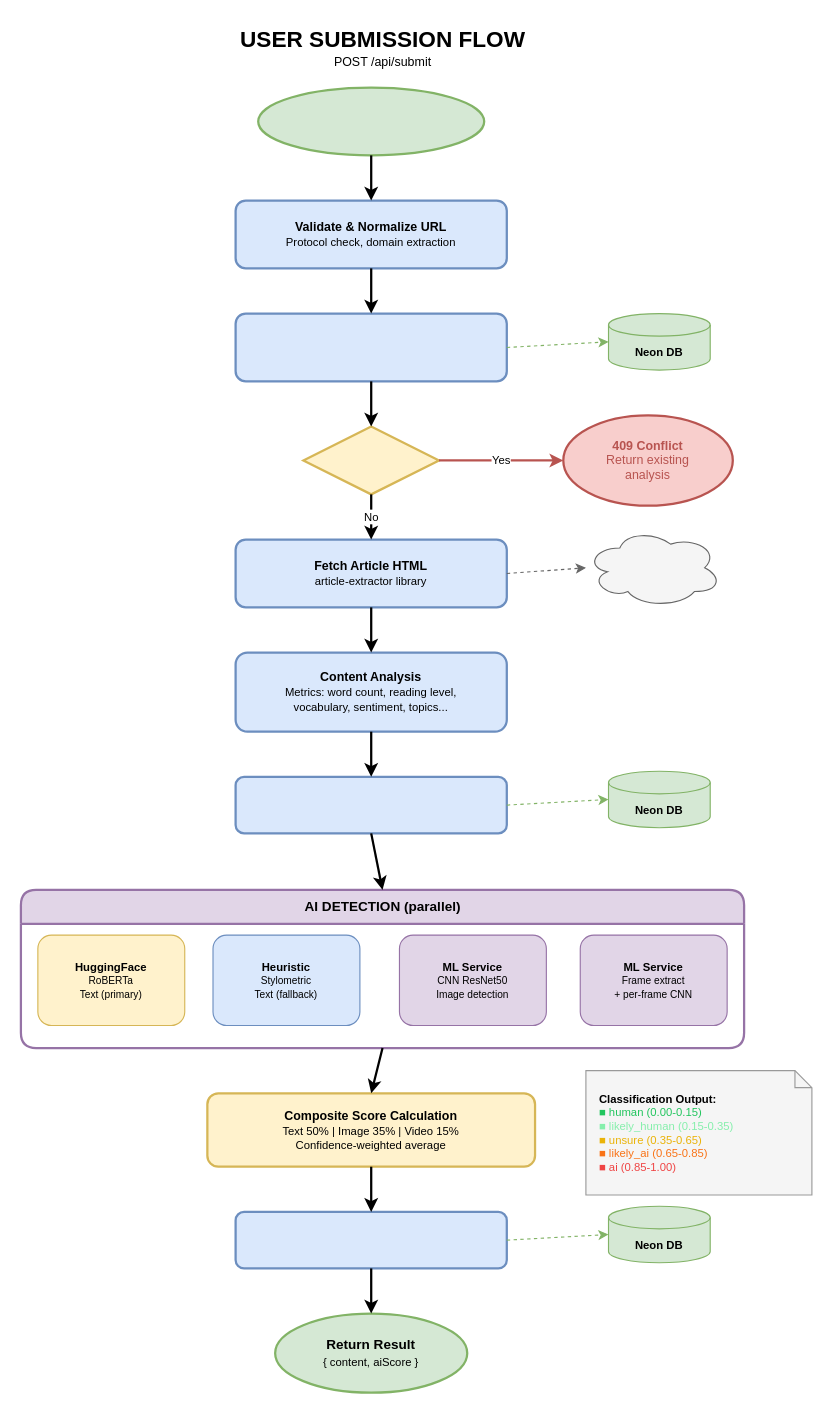
Image size: 832x1413. Some labels were removed from this diagram. The centre of each missing label's shape, as x and y in pixels:
Check Duplicate SHA-256 content hash lookup: the point at 370,347
Create Content Record Status: pending: the point at 370,804
Exists?: the point at 371,460
Store AiScore Update Content status → analyzed: the point at 370,1239
Target Website: the point at 653,567
User submits URL: the point at 371,121
